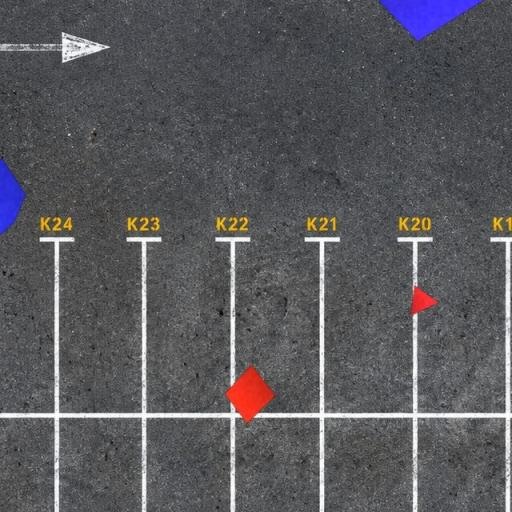BLUE_SQUARE: (358, 0, 484, 42)
RED_SQUARE: (224, 364, 276, 424)
